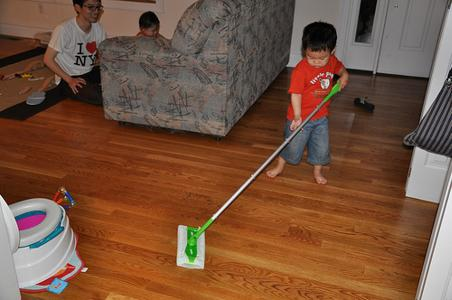person: (266, 22, 350, 185)
